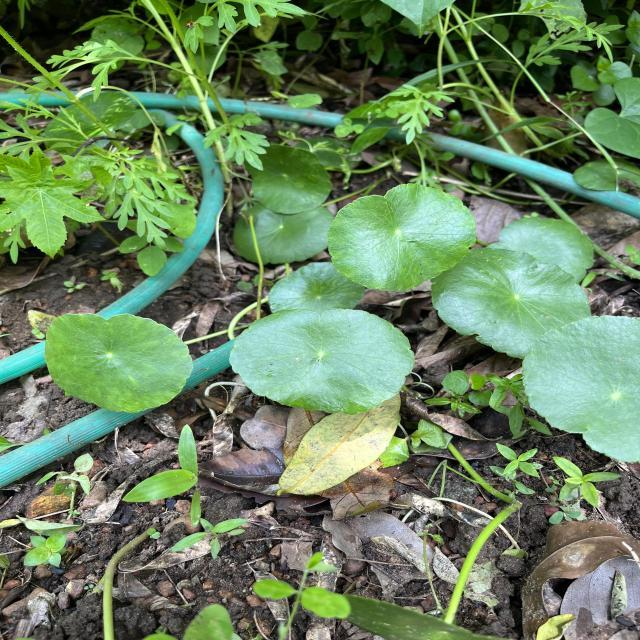Bacopa monnieri: (227, 306, 417, 416), (430, 246, 596, 361), (520, 314, 640, 466), (324, 180, 480, 294), (43, 310, 196, 416), (487, 216, 595, 286), (268, 260, 368, 316)
